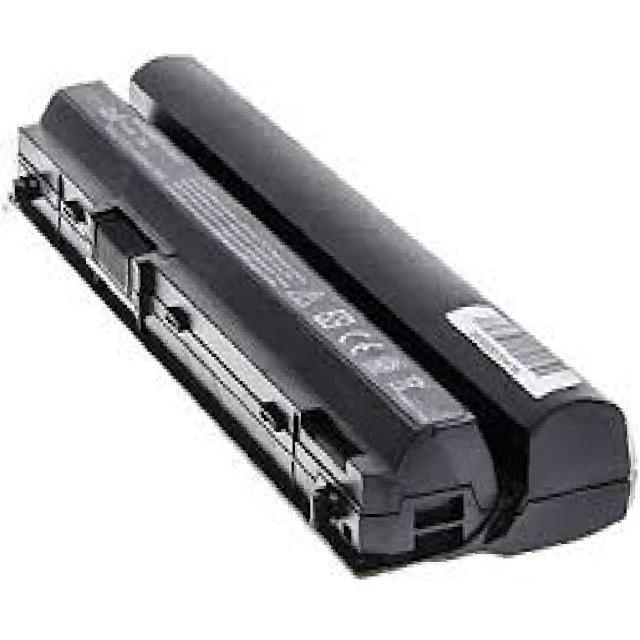Battery: (8, 16, 640, 640)
